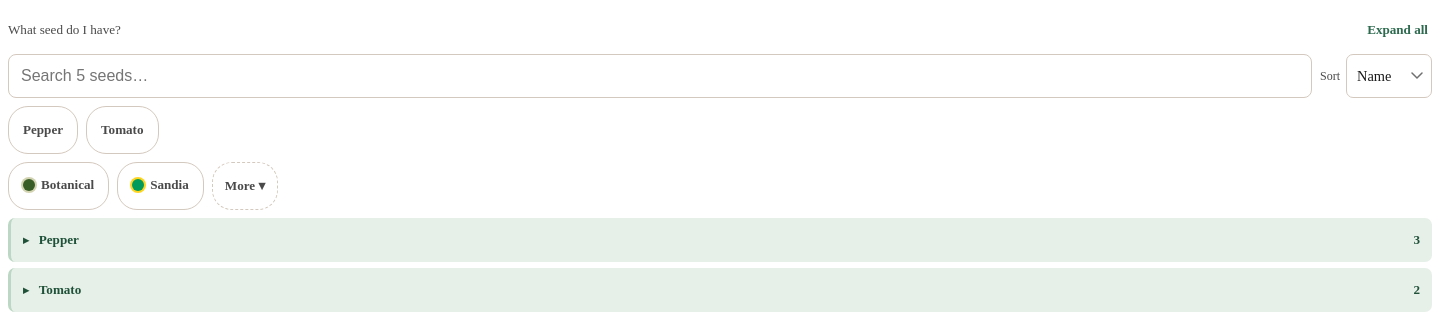
My seeds — filtering and sorting › supplier chips: every supplier in the list, count-descending, with a swatch; "No supplier" last
Click the button "More ▾". click: x=245, y=186
box: x1=212 y1=162 x2=278 y2=210
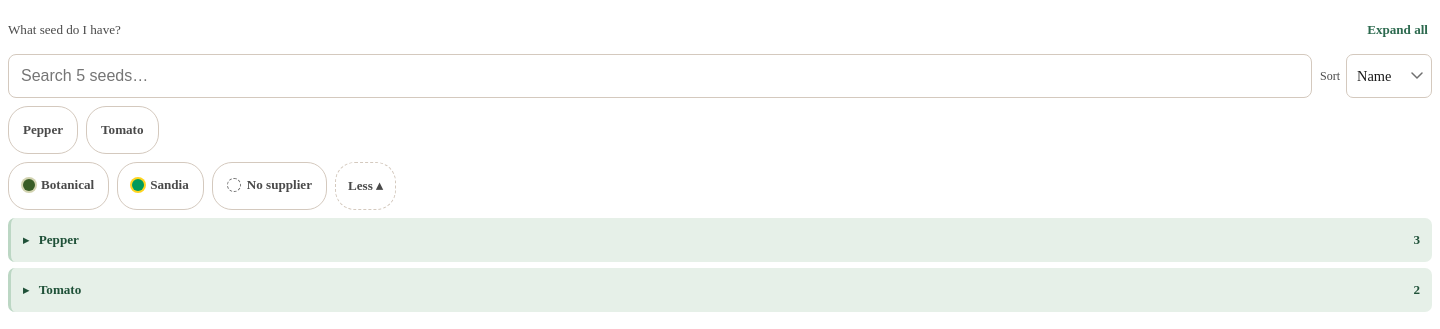
Check: the number of elements with test id "supplier-swatch" is 3, box x1=23 y1=179 x2=35 y2=191; x1=132 y1=179 x2=144 y2=191; x1=227 y1=178 x2=241 y2=192
